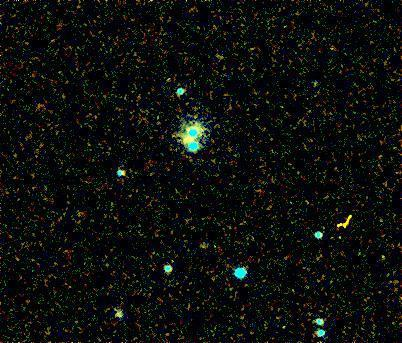star: (169, 125, 199, 155)
